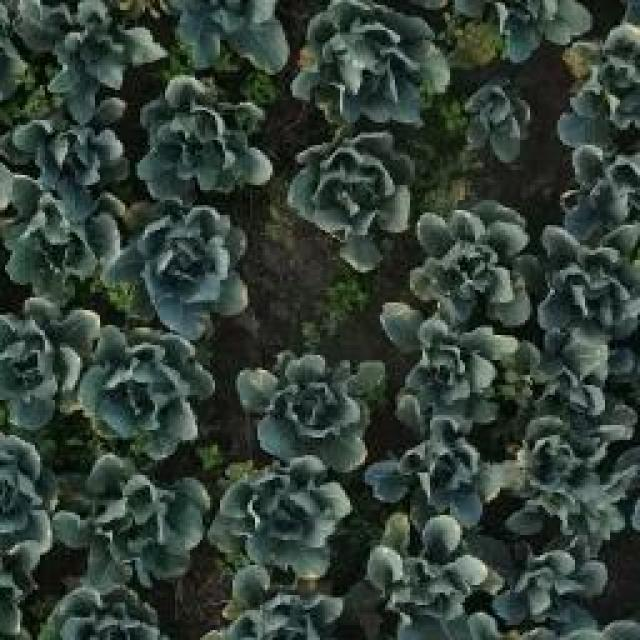cabbage: (294, 2, 449, 130), (74, 320, 217, 451), (237, 340, 381, 470), (67, 449, 211, 576), (500, 412, 640, 538), (138, 75, 271, 200), (288, 130, 414, 260), (215, 459, 355, 575), (363, 512, 499, 628), (515, 315, 640, 440), (0, 173, 121, 299), (116, 204, 242, 320), (542, 85, 640, 223), (492, 534, 616, 636), (534, 211, 640, 326), (11, 82, 128, 184), (399, 320, 512, 425), (419, 209, 528, 316), (33, 0, 157, 90), (385, 438, 496, 520), (454, 75, 534, 165)
